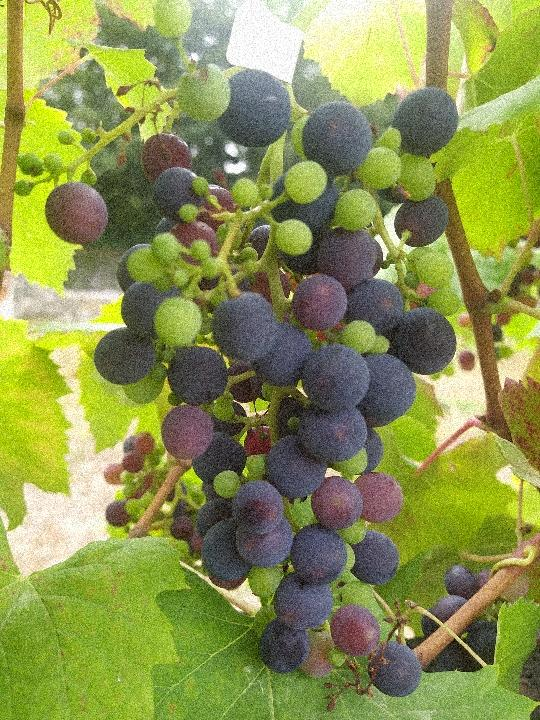grape: (13, 7, 458, 712)
